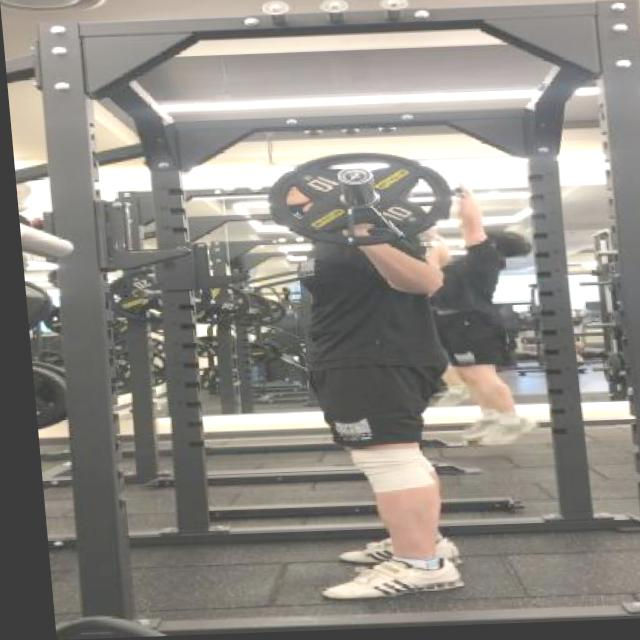barbell: (242, 139, 475, 257)
